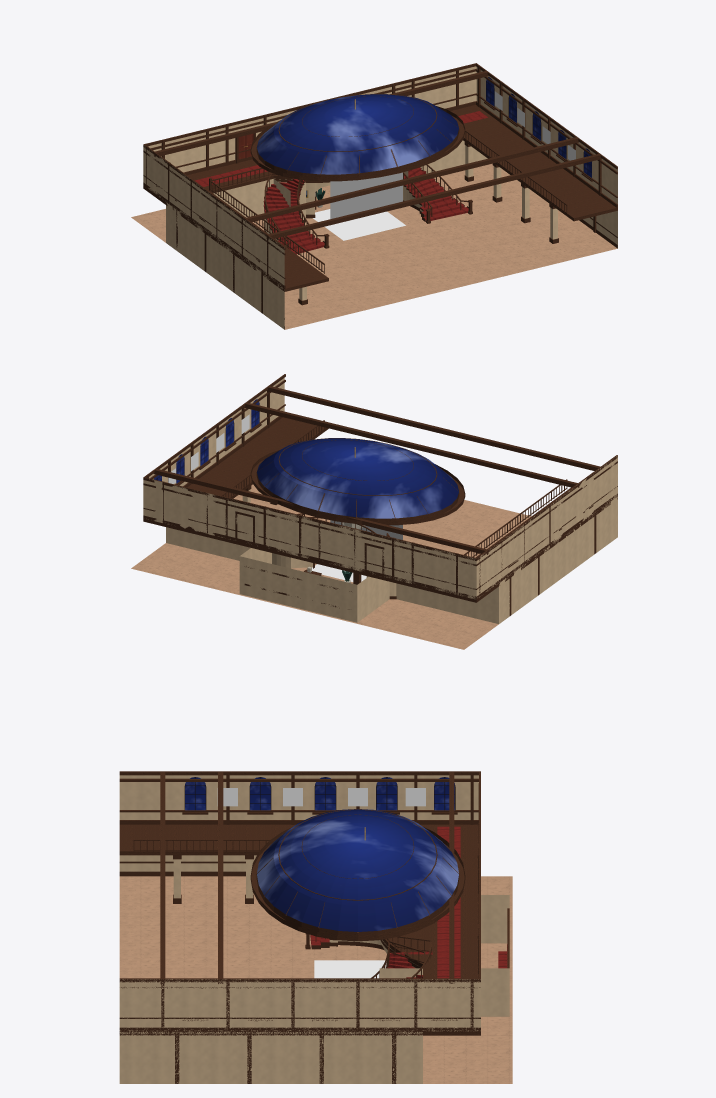
Rendered from TohnoMansion.fbx.
3 views of the same model, one above another, from view 1: azimuth 30°, elevation 25°; view 2: azimuth 150°, elevation 25°; view 3: azimuth 270°, elevation 25° (orthographic). The views are drawn at different scales.
Visible parts, largest first — view 1: Floor, Walls, DomeGlass, UpperFloor, WallTimber, Ceiling, ArchFascia, DomeRim, Stair_L, Chandelier_Glow, GalleryRails, Stair_R (+6 smaller); view 2: Walls, DomeGlass, Floor, WallTimber, Ceiling, BackRoom, UpperFloor, ArchFascia, DomeRim, GalleryRails, ArchedWindows, DomeRibs; view 3: Walls, Floor, DomeGlass, WallTimber, UpperFloor, Ceiling, BackRoom, ArchedWindows, DomeRim, Sconce_Glow, FloorGlow, GalleryRails (+2 smaller).
Boxes of the visible parts, <box> form: Floor: <box>131,163,617,329</box>; Walls: <box>143,66,617,329</box>; DomeGlass: <box>257,94,458,174</box>; UpperFloor: <box>143,105,617,291</box>; WallTimber: <box>143,63,617,313</box>; Ceiling: <box>154,70,601,239</box>; ArchFascia: <box>213,140,487,218</box>; DomeRim: <box>250,106,465,181</box>; Stair_L: <box>263,178,324,254</box>; Chandelier_Glow: <box>330,172,402,218</box>; GalleryRails: <box>209,130,567,273</box>; Stair_R: <box>403,167,468,221</box>; Walls: <box>143,378,617,623</box>; DomeGlass: <box>257,438,458,518</box>; Floor: <box>131,484,531,649</box>; WallTimber: <box>143,374,617,615</box>; Ceiling: <box>153,385,600,554</box>; BackRoom: <box>239,548,389,622</box>; UpperFloor: <box>143,417,617,602</box>; ArchFascia: <box>166,527,498,623</box>; DomeRim: <box>250,450,465,525</box>; GalleryRails: <box>221,420,567,557</box>; ArchedWindows: <box>154,399,259,483</box>; DomeRibs: <box>256,438,459,518</box>; Walls: <box>119,775,480,1083</box>; Floor: <box>119,876,512,1083</box>; DomeGlass: <box>257,809,458,931</box>; WallTimber: <box>119,771,480,1083</box>; UpperFloor: <box>119,824,480,1035</box>; Ceiling: <box>160,771,454,984</box>; BackRoom: <box>379,895,509,1016</box>; ArchedWindows: <box>184,777,455,810</box>; DomeRim: <box>250,827,465,941</box>; Sconce_Glow: <box>217,788,425,806</box>; FloorGlow: <box>314,960,386,978</box>; GalleryRails: <box>133,839,431,978</box>.
Size of the model in its own units: 64.6 by 11.65 by 47.6.
Materials: 18 (16 with a texture image).
